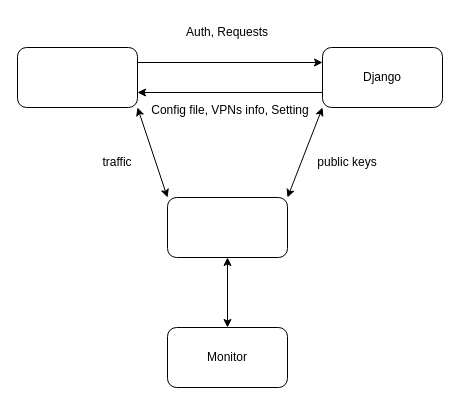
The diagram is 460 pixels wide and 405 high, and some of its shapes have lost their labels. The centre of each missing label's shape, as x and y in pixels:
"MAUI" goes at point (77, 77).
"VPNs" goes at point (227, 227).
